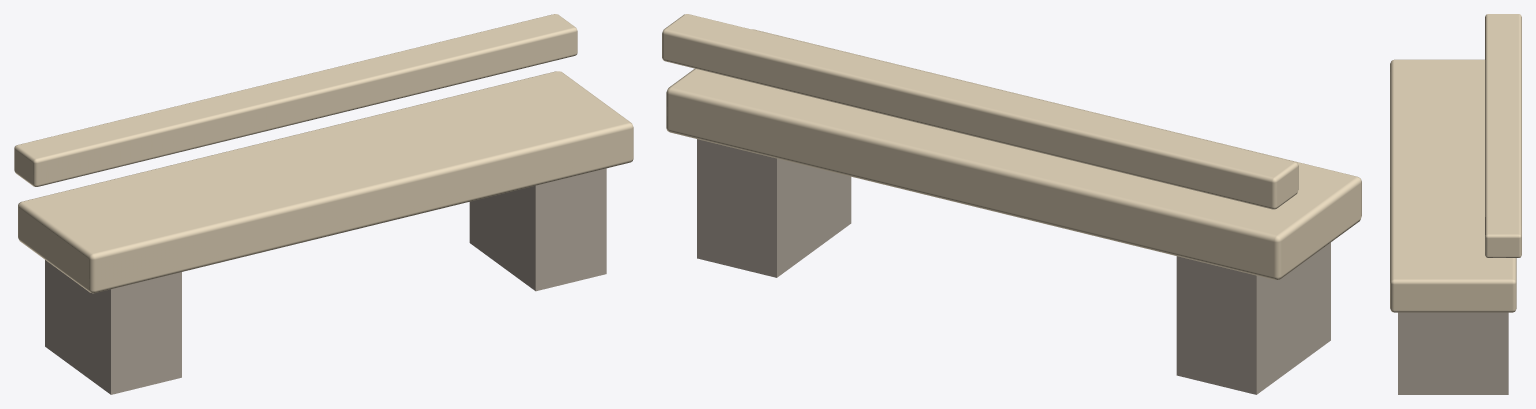
The model's file is courtyard-stone-be-3fe9586e.glb.
3 renders of one model, left to right at view 1: azimuth 30°, elevation 25°; view 2: azimuth 150°, elevation 25°; view 3: azimuth 270°, elevation 25°, orthographic. The views are drawn at different scales.
Visible parts, largest first — view 1: courtyard-stone-bench; view 2: courtyard-stone-bench; view 3: courtyard-stone-bench.
Part boxes in pixels (x1=…): courtyard-stone-bench: x1=14, y1=14, x2=633, y2=394; courtyard-stone-bench: x1=662, y1=14, x2=1361, y2=394; courtyard-stone-bench: x1=1390, y1=14, x2=1521, y2=394.
Size of the model in its own units: 2 by 0.71 by 0.5001.
